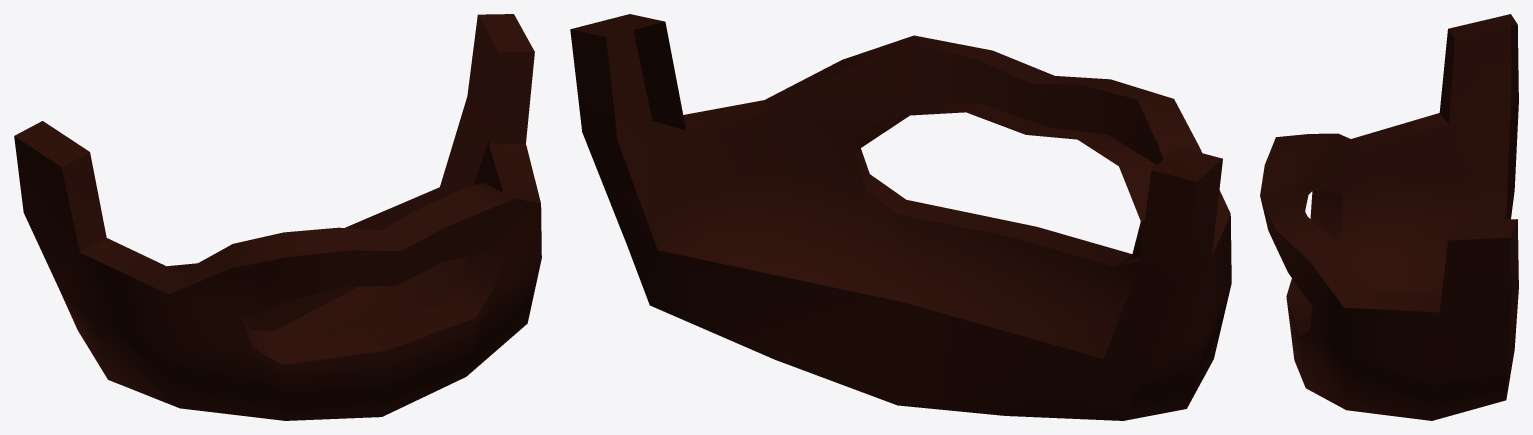
File: Beard 01.FBX
3 renders of one model, left to right at view 1: azimuth 30°, elevation 25°; view 2: azimuth 150°, elevation 25°; view 3: azimuth 270°, elevation 25°, orthographic. The views are drawn at different scales.
Visible parts, largest first — view 1: Beard 01; view 2: Beard 01; view 3: Beard 01.
Boxes of the visible parts, box(x1,y1,x2,y2) form: Beard 01: box(14, 14, 541, 420); Beard 01: box(570, 14, 1231, 420); Beard 01: box(1260, 14, 1518, 420).
Size of the model in its own units: 40.83 by 20.58 by 19.98.
